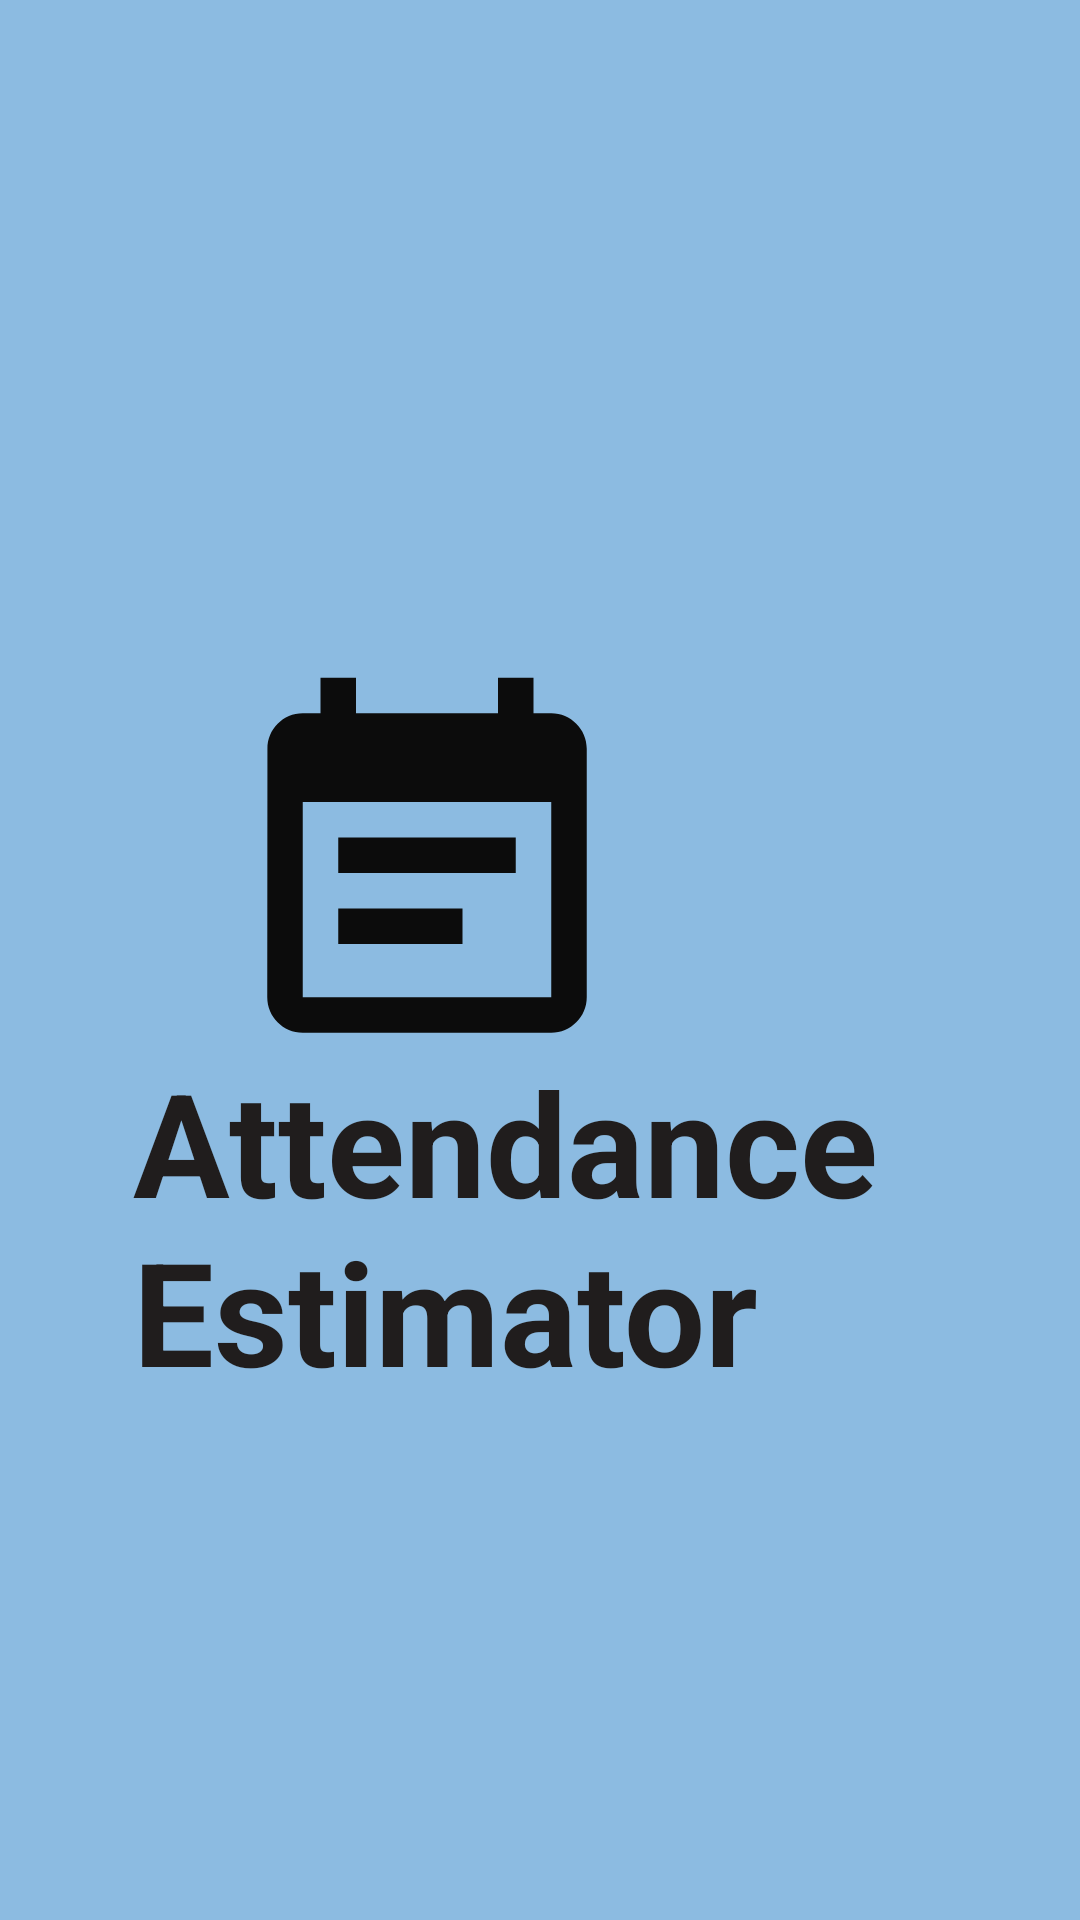

Screen size 1080x1920. Icon name, then its center in pixels as [x,y]:
event note: [427,855]
